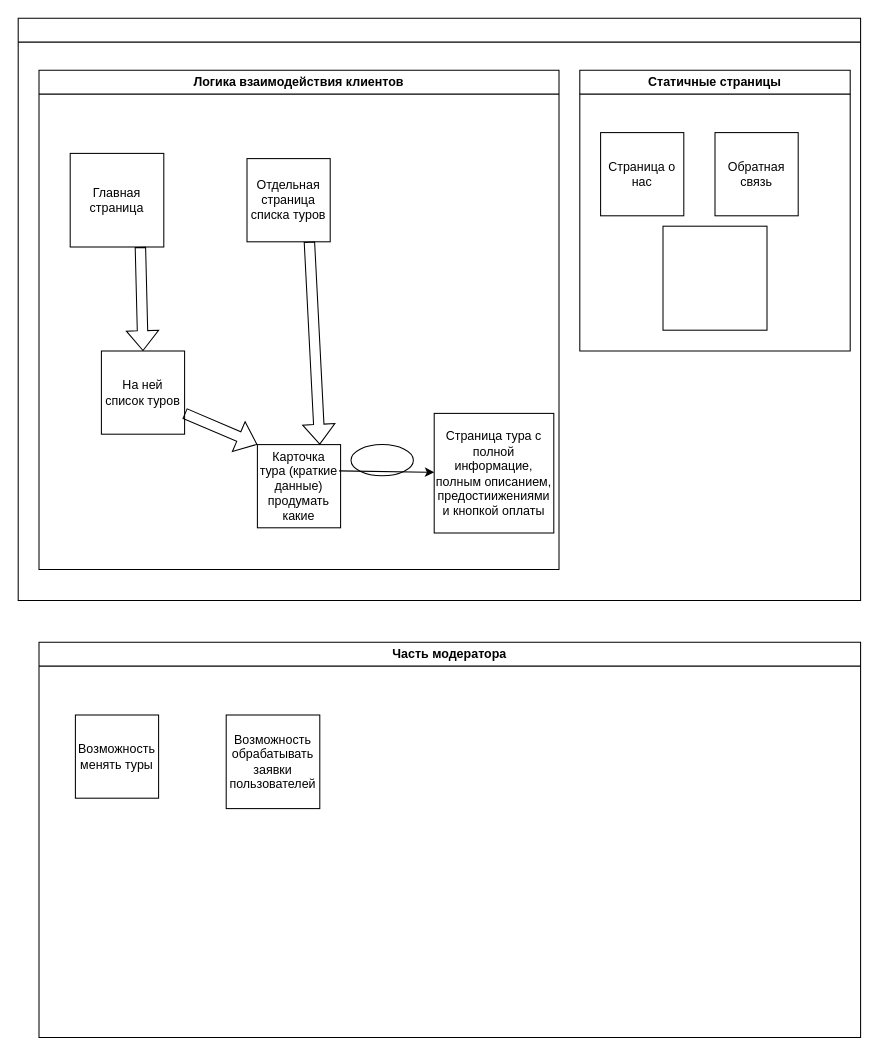
The diagram is 879 pixels wide and 1056 high, and some of its shapes have lost their labels. Here are the shapes that lost their labels. From the top down, the centre of each, then its label:
At point 714,277: "Еще что нибудь о нас о оплате и прочее (надо продумать накинуть текста".
At point 439,309: "Клиентская часть".
At point 381,460: "клик".
